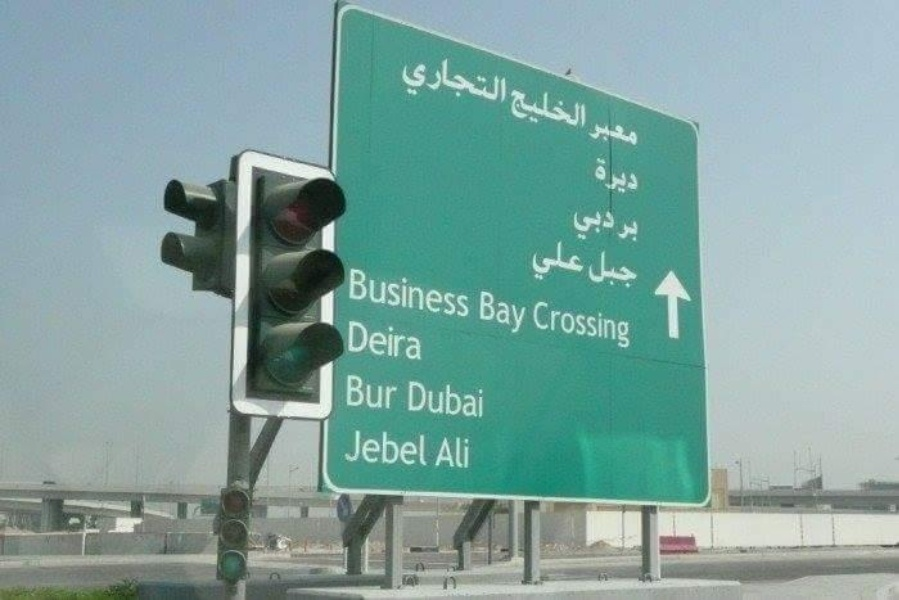text: (417, 45, 432, 112), (433, 45, 448, 112), (449, 45, 464, 112), (465, 45, 480, 112), (481, 45, 496, 112), (513, 83, 528, 138), (529, 83, 544, 138), (545, 83, 560, 138), (561, 83, 576, 138), (497, 45, 509, 112), (353, 268, 368, 320), (369, 268, 384, 320), (385, 268, 400, 320), (401, 268, 416, 320), (417, 268, 432, 320), (433, 268, 448, 320), (449, 268, 464, 320), (545, 300, 560, 350), (561, 300, 576, 350), (577, 300, 592, 350), (593, 300, 608, 350), (609, 300, 624, 350), (481, 290, 496, 336), (497, 290, 512, 336), (577, 83, 589, 138), (353, 424, 368, 467), (369, 424, 384, 467), (385, 424, 400, 467), (401, 424, 416, 467), (513, 290, 527, 336), (353, 318, 368, 360), (369, 318, 384, 360), (385, 318, 400, 360), (401, 318, 416, 360), (545, 239, 560, 281), (561, 239, 576, 281), (609, 156, 624, 196), (625, 156, 640, 196), (532, 300, 544, 350), (417, 381, 432, 419), (433, 381, 448, 419), (449, 381, 464, 419), (465, 381, 480, 419), (593, 250, 608, 288), (609, 250, 624, 288), (594, 156, 608, 196), (625, 117, 641, 152), (353, 373, 368, 410), (369, 373, 384, 410), (577, 207, 592, 243), (593, 207, 608, 243), (408, 45, 416, 112), (625, 250, 639, 288), (593, 117, 608, 152), (609, 117, 624, 152), (385, 373, 399, 410), (417, 424, 429, 467), (449, 436, 464, 469), (533, 239, 544, 281), (625, 219, 640, 245), (465, 268, 472, 320), (437, 436, 448, 469), (577, 239, 585, 281), (609, 207, 618, 243), (625, 300, 631, 350), (409, 381, 416, 419), (345, 373, 352, 410), (346, 424, 352, 467), (465, 436, 472, 469), (417, 318, 422, 360), (587, 250, 592, 288), (617, 219, 624, 245), (349, 268, 352, 320), (481, 381, 485, 419), (349, 318, 352, 360), (641, 219, 643, 245), (575, 207, 576, 243), (591, 117, 592, 152)
